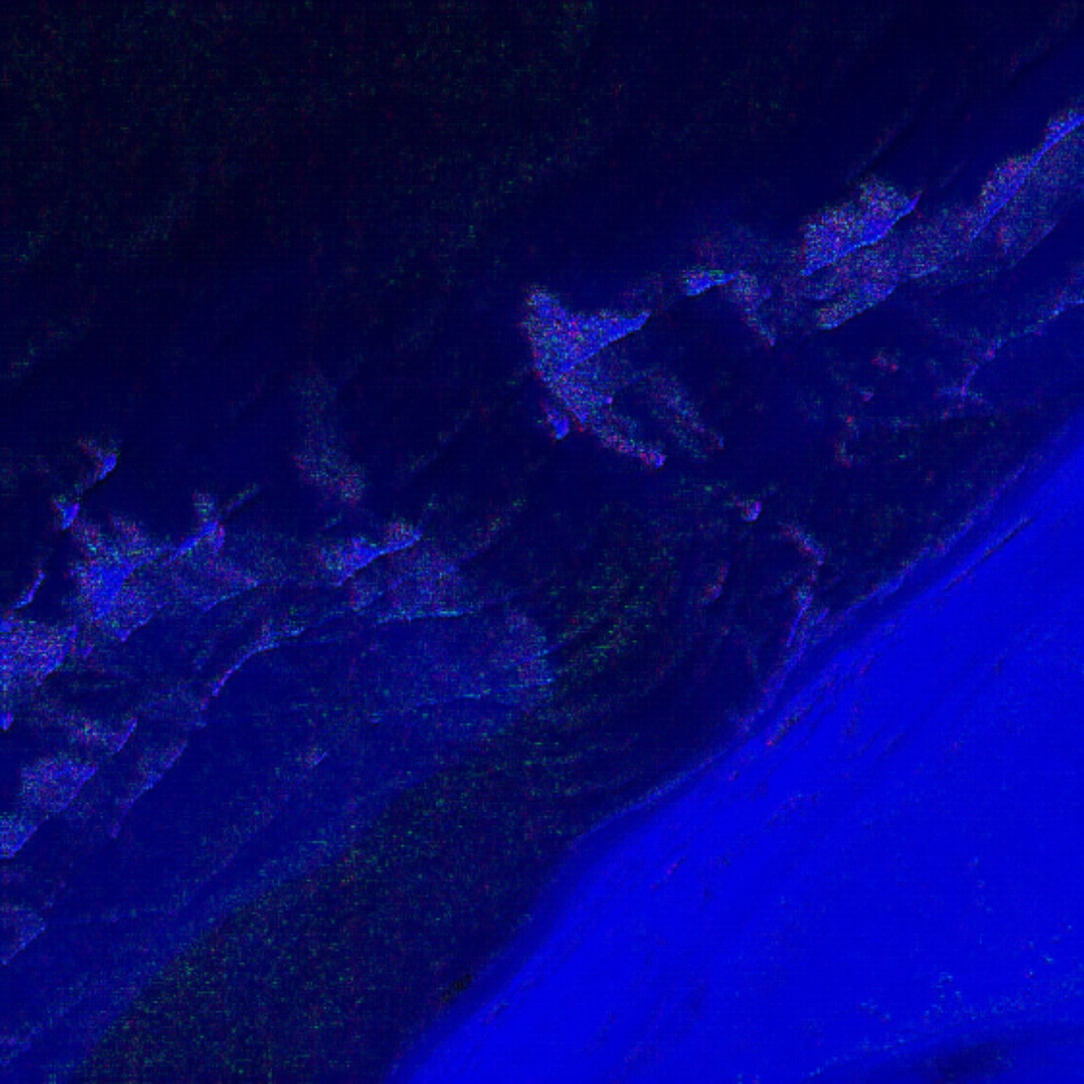rip_current: (191, 244, 733, 719)
